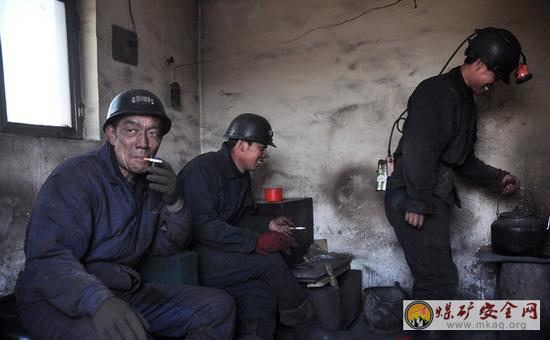helmet: (102, 84, 182, 178), (457, 20, 535, 93), (218, 111, 281, 174)
